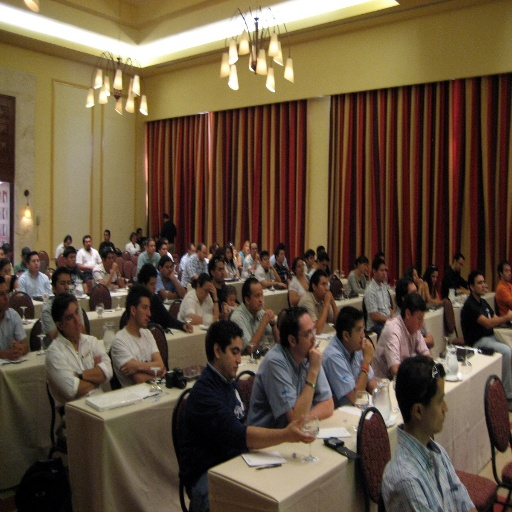hand: (284, 415, 315, 443), (359, 337, 375, 361), (308, 344, 321, 371), (121, 356, 137, 376), (11, 339, 23, 352), (207, 281, 217, 296), (6, 347, 19, 358), (89, 354, 103, 364), (183, 320, 193, 333), (261, 312, 271, 325), (322, 292, 331, 303), (4, 271, 11, 282), (277, 281, 287, 288), (267, 310, 273, 321), (253, 250, 259, 260), (506, 308, 511, 320), (167, 269, 173, 278), (327, 291, 333, 300), (112, 261, 117, 271), (418, 277, 423, 286), (266, 260, 272, 267), (72, 368, 78, 374), (115, 264, 119, 272), (366, 264, 369, 274), (89, 264, 94, 269)
